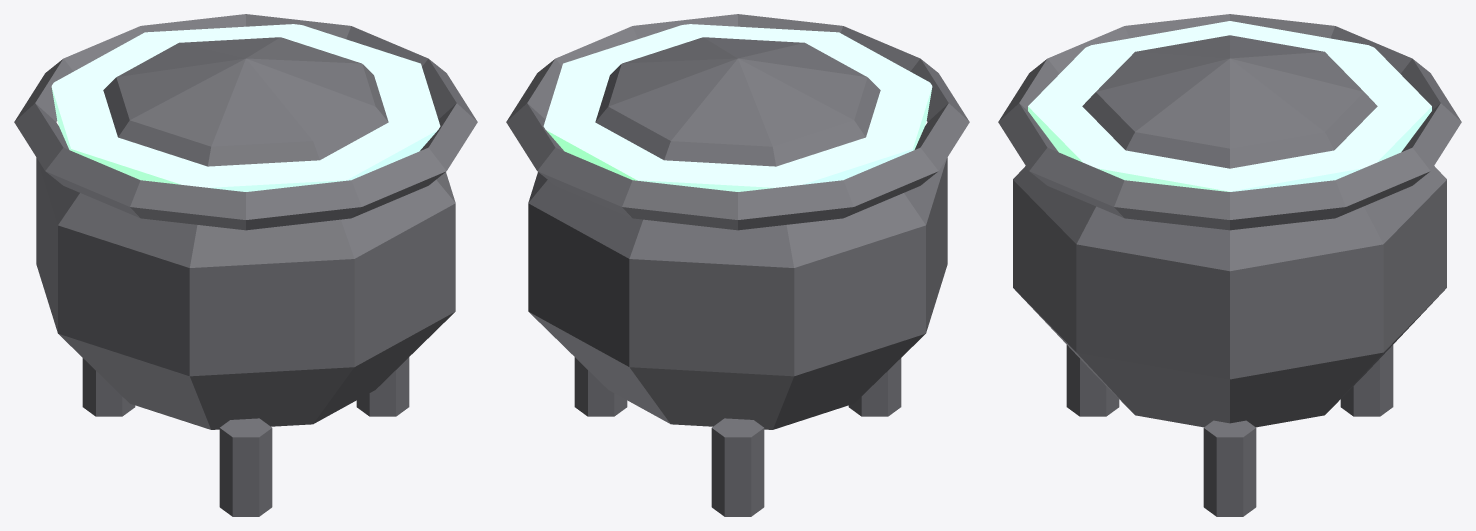
The model's file is std_cauldron.glb.
The picture shows the model from 3 angles, left to right: view 1: azimuth 30°, elevation 25°; view 2: azimuth 150°, elevation 25°; view 3: azimuth 270°, elevation 25°; orthographic projection.
Visible parts, largest first — view 1: std_cauldron; view 2: std_cauldron; view 3: std_cauldron.
Boxes of the visible parts, x1,y1,x2,y2 form: std_cauldron: (14,14,477,516); std_cauldron: (506,14,969,516); std_cauldron: (998,14,1461,516).
Size of the model in its own units: 0.264 by 0.24 by 0.264.
